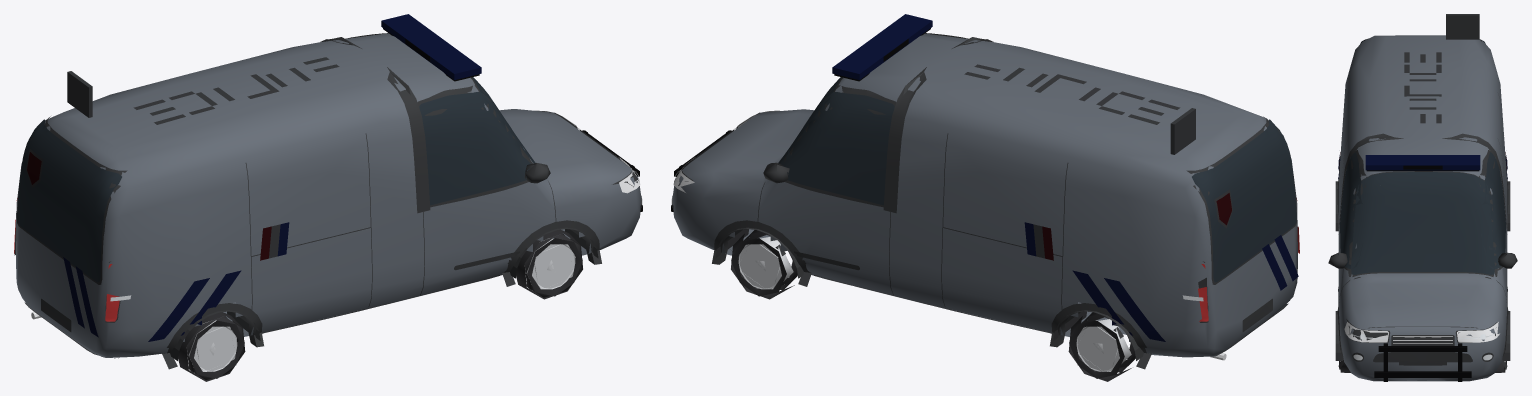
The model's file is crs_van_far.glb.
3 views of the same model, side by side, from view 1: azimuth 30°, elevation 25°; view 2: azimuth 150°, elevation 25°; view 3: azimuth 270°, elevation 25° (orthographic). The views are drawn at different scales.
Parts seen in each view (by area): view 1: Body, RearGlass, Glass-1, WheelRR, WheelFR, LightBar, Bpillar-1, ArchTrim-1, ArchTrim-1.001, RgFrame, CrsRoofPlate, CrsStripe1-1 (+3 smaller); view 2: Body, RearGlass, Glass1, WheelFL, WheelRL, LightBar, Bpillar1, ArchTrim1, ArchTrim1.001, CrsRoofPlate, CrsStripe11, RgFrame (+4 smaller); view 3: Body, Windshield, LightBar, Glass1, Glass-1, Intake, CrsRoofPlate, HeadReflector, WsFrame, CrsBullL, Grille, CrsBullH (+14 smaller).
Part boxes in pixels (x1,y1,x2,y2): Body: (16,33,641,357); RearGlass: (17,119,121,282); Glass-1: (419,92,535,205); WheelRR: (178,312,245,381); WheelFR: (516,229,582,299); LightBar: (381,14,481,79); Bpillar-1: (387,67,430,213); ArchTrim-1: (502,220,601,286); ArchTrim-1.001: (162,303,263,369); RgFrame: (17,116,127,284); CrsRoofPlate: (67,71,92,117); CrsStripe1-1: (148,278,209,341); Body: (672,33,1297,357); RearGlass: (1192,119,1296,282); Glass1: (778,92,894,205); WheelFL: (731,230,797,299); WheelRL: (1068,312,1135,381); LightBar: (832,14,932,79); Bpillar1: (883,67,926,213); ArchTrim1: (712,220,811,286); ArchTrim1.001: (1050,303,1151,369); CrsRoofPlate: (1170,108,1195,154); CrsStripe11: (1104,278,1165,341); RgFrame: (1186,116,1296,284); Body: (1338,35,1507,381); Windshield: (1351,172,1494,274); LightBar: (1365,155,1480,170); Glass1: (1474,152,1505,268); Glass-1: (1340,152,1362,268); Intake: (1373,352,1472,362); CrsRoofPlate: (1446,14,1479,39); HeadReflector: (1344,322,1499,342); WsFrame: (1348,171,1497,276); CrsBullL: (1374,371,1471,377); Grille: (1391,335,1454,345); CrsBullH: (1378,346,1467,351).
Size of the model in its own units: 5.72 by 2.55 by 2.15.
